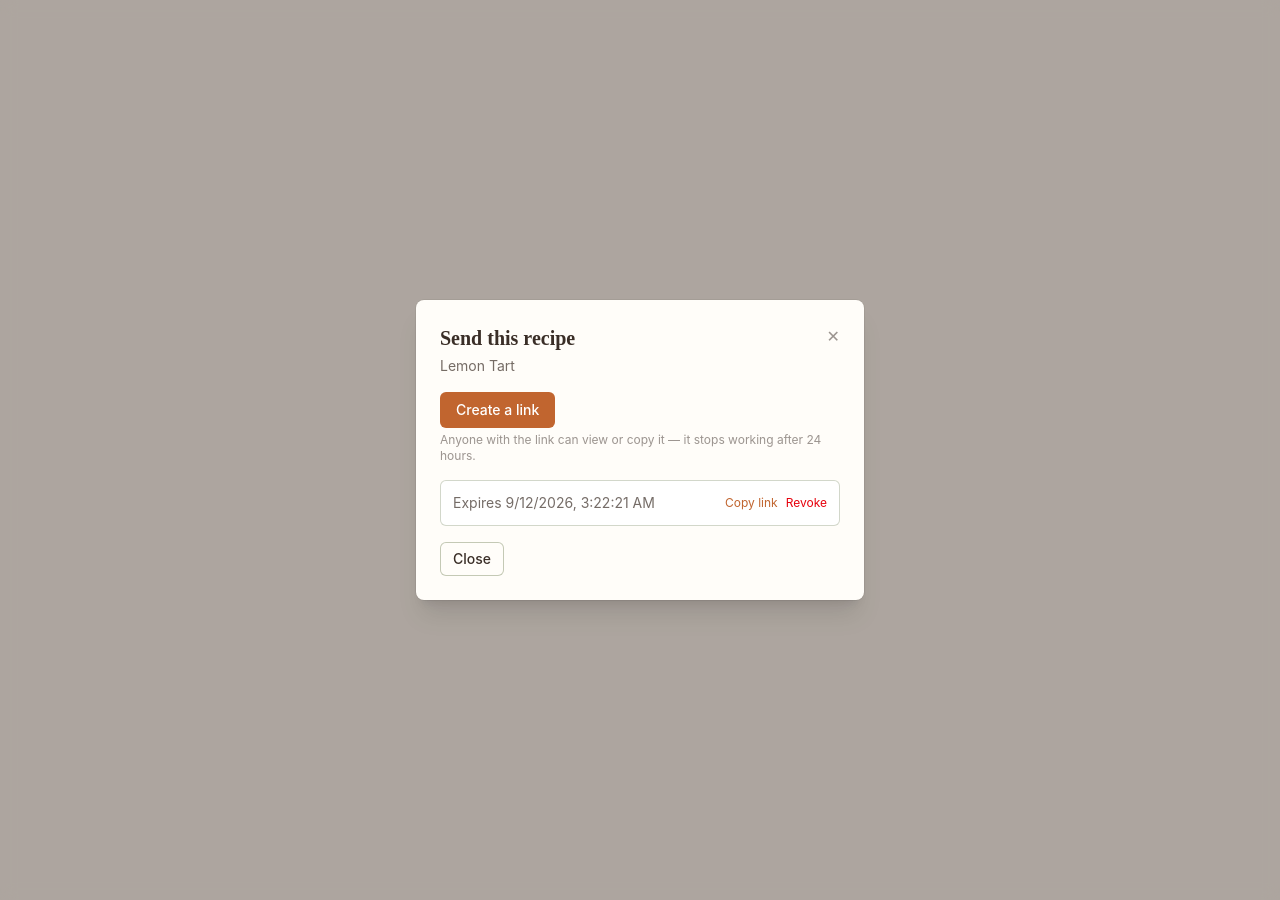
Test: ShareRecipeDialog › revokes a link, replacing its actions with a revoked message
Click the button "Revoke" at (806, 503), box [786,495,827,511]
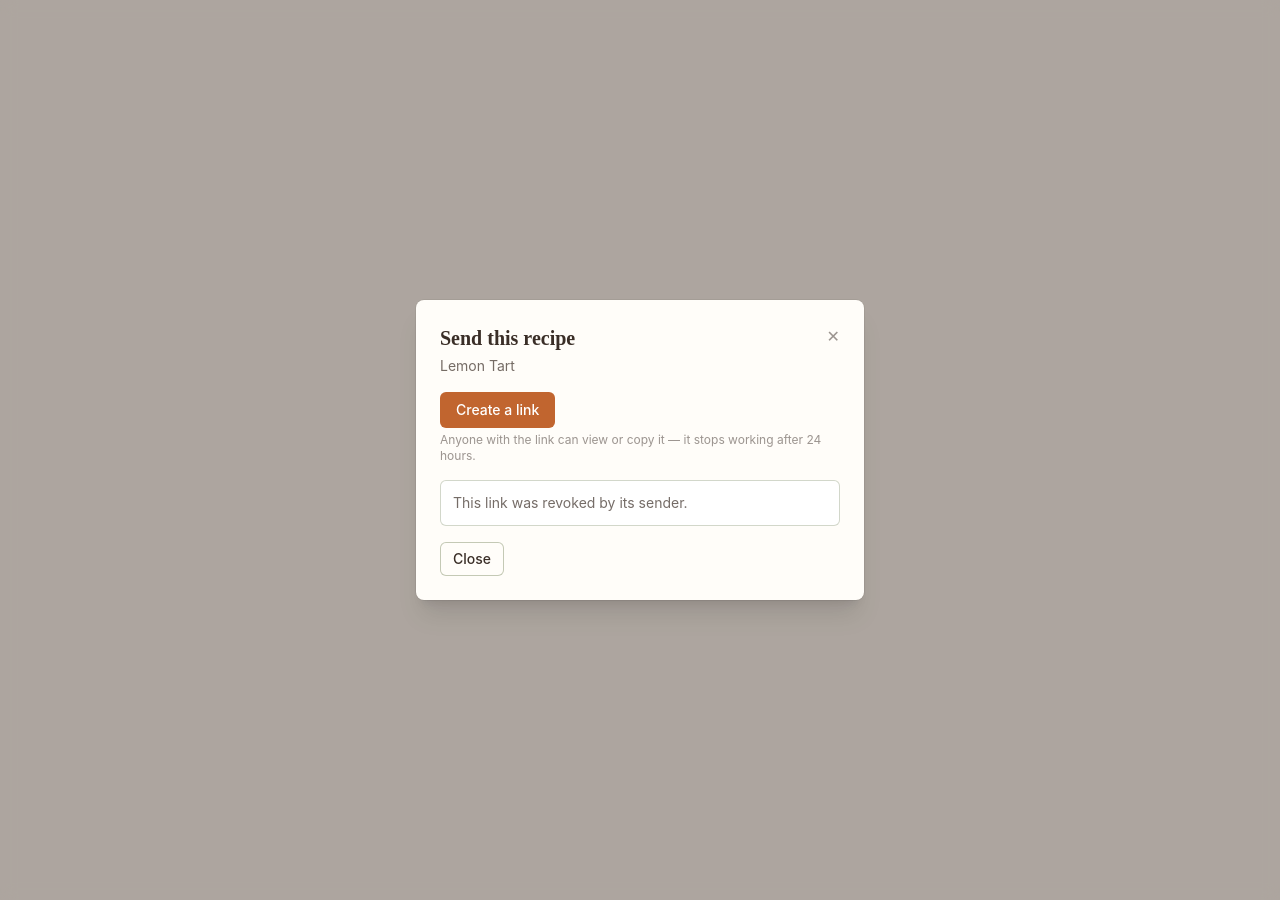
expect the text "This link was revoked by its sender." is shown: met, box [453,493,688,513]
expect the button "Copy link" is gone: met
